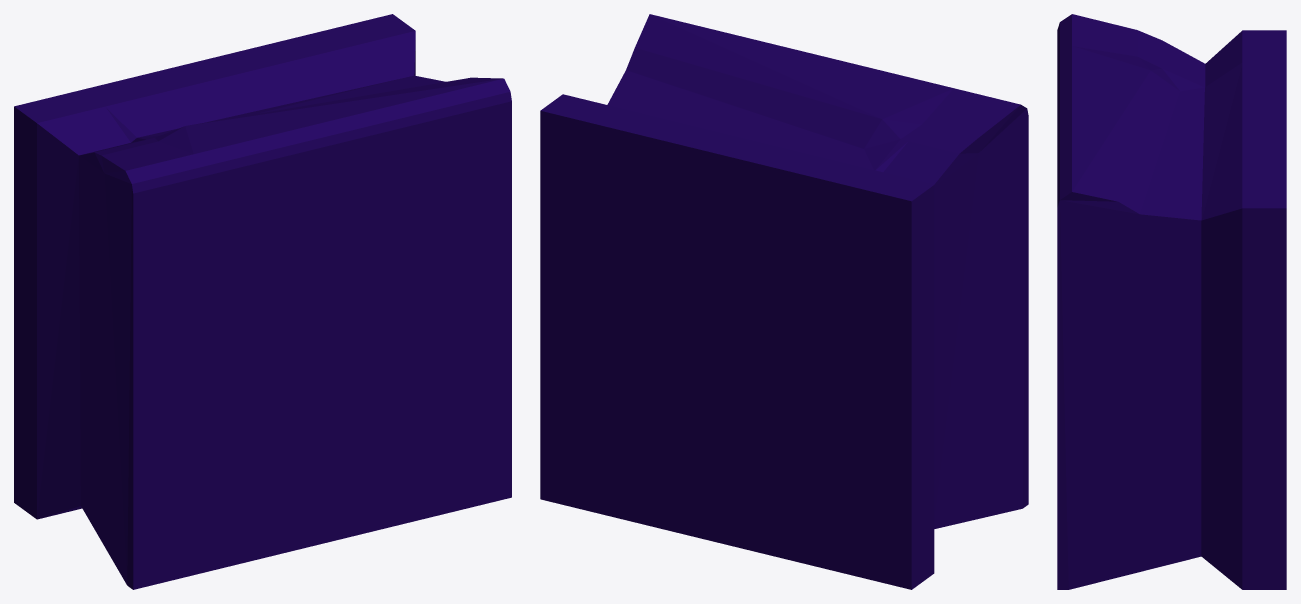
File: button_holder (1).fbx
The picture shows the model from 3 angles, left to right: view 1: azimuth 30°, elevation 25°; view 2: azimuth 150°, elevation 25°; view 3: azimuth 270°, elevation 25°; orthographic projection. The views are drawn at different scales.
Visible parts, largest first — view 1: button_stand; view 2: button_stand; view 3: button_stand.
Boxes of the visible parts, box(x1,y1,x2,y2) form: button_stand: box(14, 14, 511, 589); button_stand: box(540, 14, 1028, 589); button_stand: box(1057, 14, 1286, 589).
Bounding box in the file's own units: 31.22 × 32.56 × 17.01.
